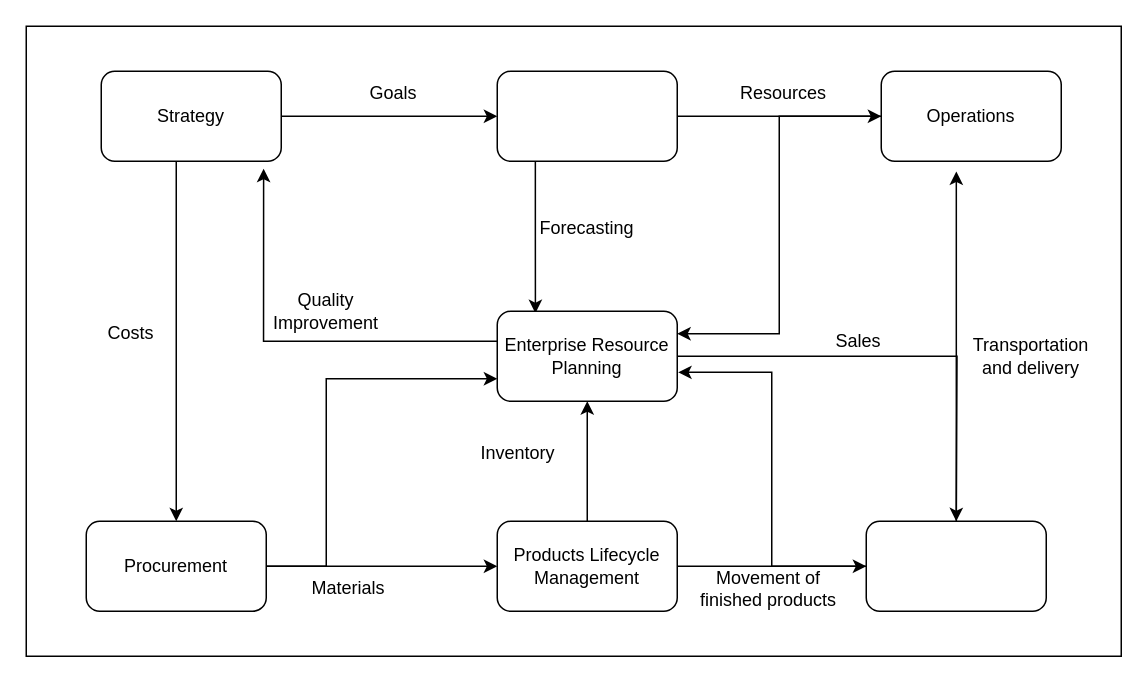
This 1148x683 diagram has some shape labels left out. The shapes that lost their labels are listed below. From the top down, each one's centre as x and y in pixels, then its label:
At point (586, 115): "Planning".
At point (955, 565): "Logistics".
